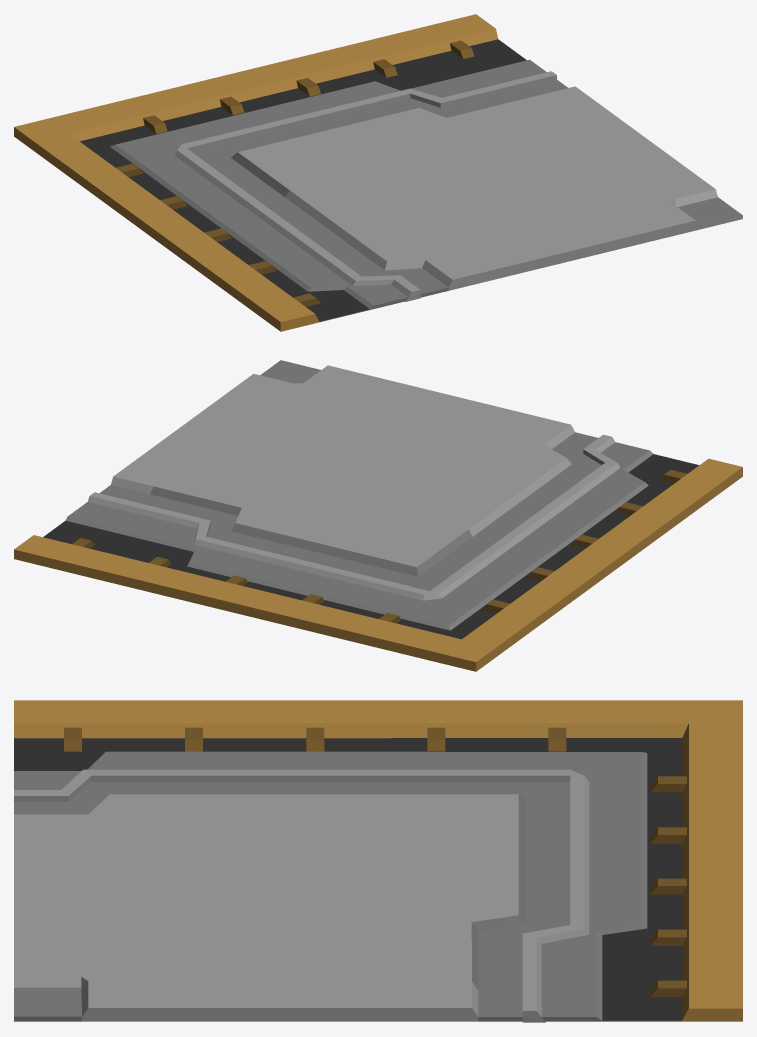
The model's file is FloorTile_Corner.glb.
The picture shows the model from 3 angles, top to bottom: view 1: azimuth 30°, elevation 25°; view 2: azimuth 150°, elevation 25°; view 3: azimuth 270°, elevation 25°; orthographic projection. The views are drawn at different scales.
Parts seen in each view (by area): view 1: FloorTile_Corner; view 2: FloorTile_Corner; view 3: FloorTile_Corner.
Part boxes in pixels (box(x1,y1,x2,y2)): FloorTile_Corner: box(14, 14, 742, 331); FloorTile_Corner: box(14, 360, 742, 671); FloorTile_Corner: box(14, 700, 742, 1022).
Size of the model in its own units: 0.68 by 0.0209 by 0.68.
